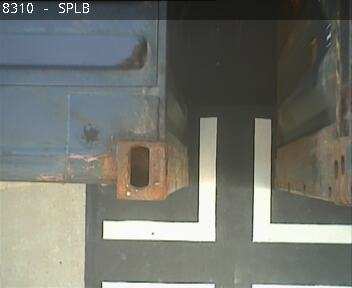groundmarker_1: (102, 117, 352, 244)
